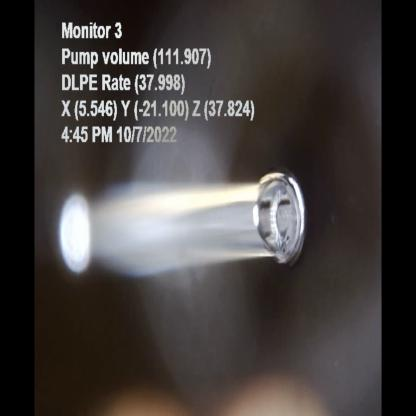Droplet: (253, 173, 308, 268)
